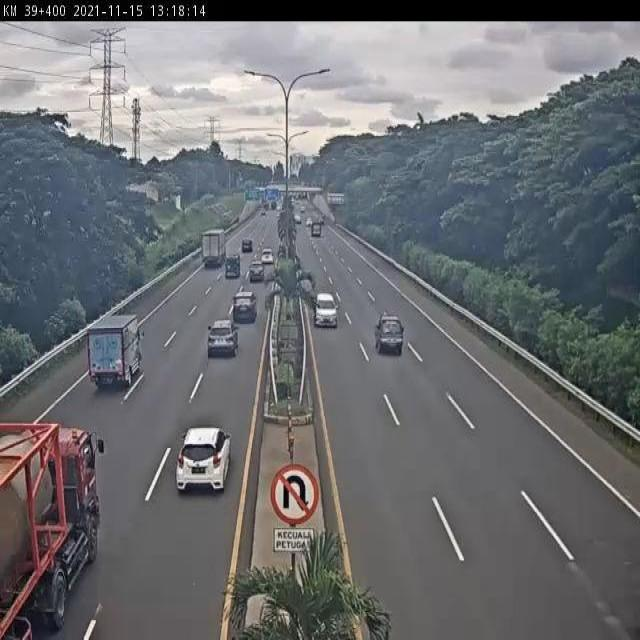Car: (174, 429, 232, 495), (207, 318, 239, 358), (313, 293, 340, 331), (232, 290, 258, 324), (260, 246, 274, 264)
Truck: (0, 418, 107, 640), (88, 312, 146, 389), (376, 316, 404, 355), (201, 229, 228, 269)
